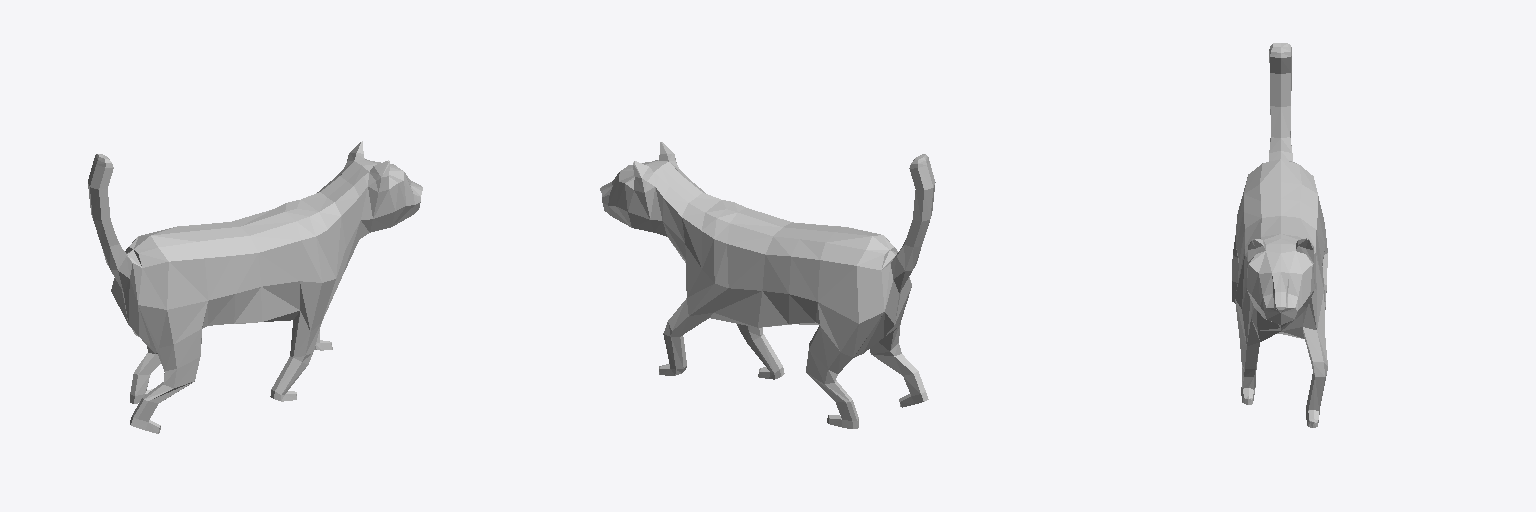
The model's file is cat.obj.
3 views of the same model, side by side, from view 1: azimuth 30°, elevation 25°; view 2: azimuth 150°, elevation 25°; view 3: azimuth 270°, elevation 25° (orthographic).
Size of the model in its own units: 2.55 by 2.02 by 0.6412.